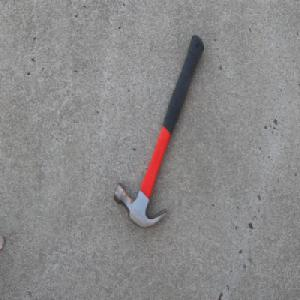Hammer: (112, 34, 204, 231)
